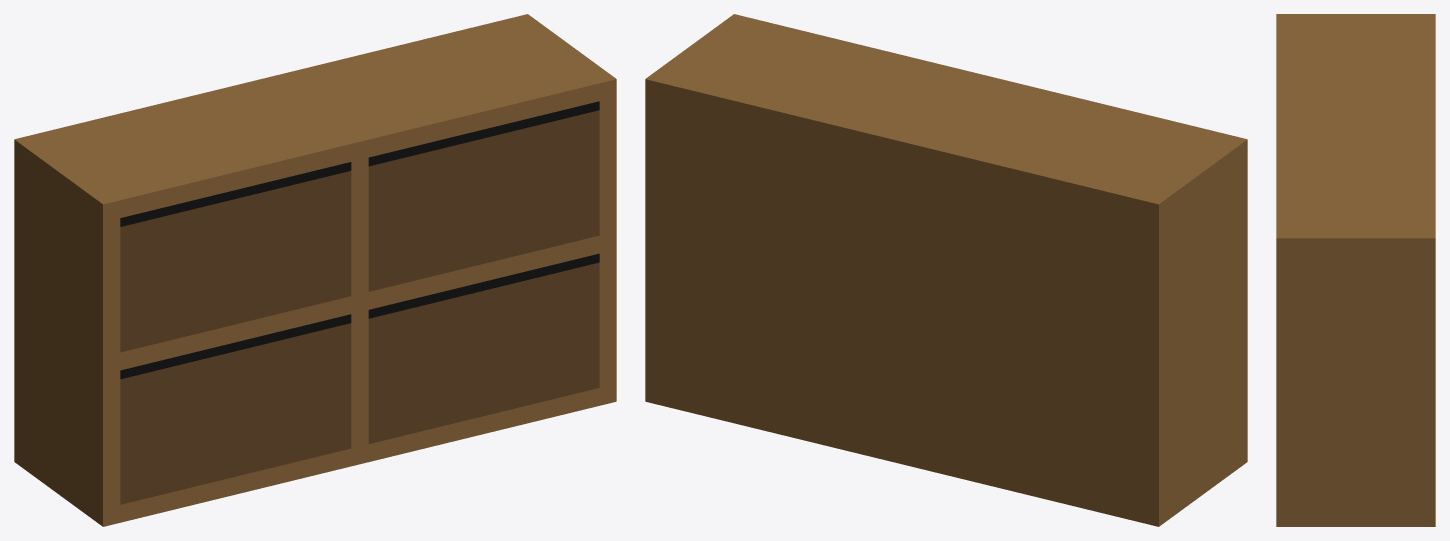
File: tv_stand.obj
3 views of the same model, side by side, from view 1: azimuth 30°, elevation 25°; view 2: azimuth 150°, elevation 25°; view 3: azimuth 270°, elevation 25° (orthographic). The views are drawn at different scales.
Bounding box in the file's own units: 6 × 3.6 × 1.8.
1 material, 1 textured.
